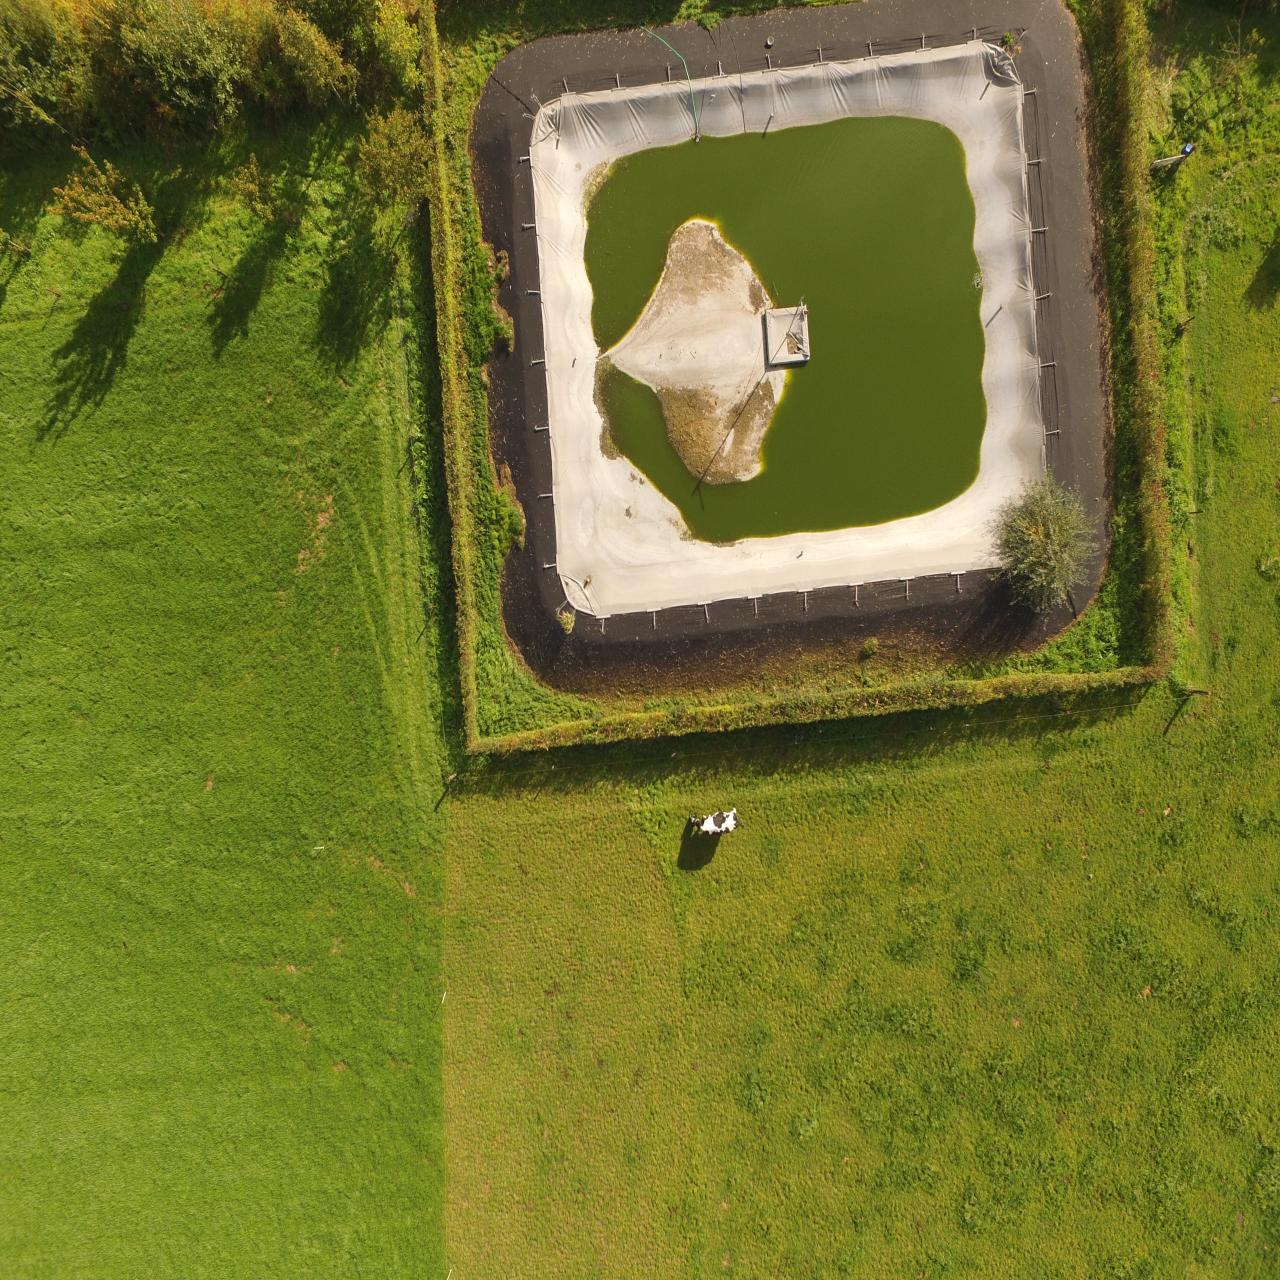cow: (688, 804, 740, 837)
